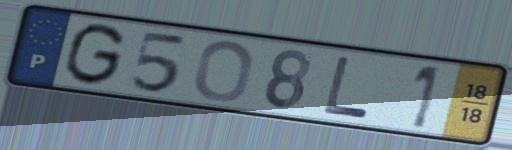1: (409, 63, 444, 131)
5: (128, 29, 191, 95)
8: (261, 48, 314, 111)
G: (61, 21, 129, 88)
L: (320, 53, 371, 121)
O: (192, 38, 257, 104)
